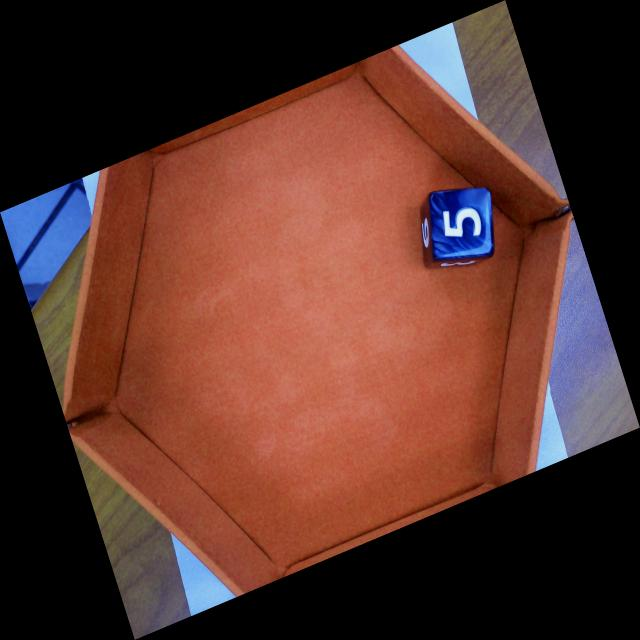dice: (432, 189, 493, 260)
